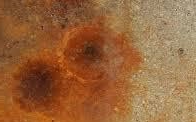Corrosion: (1, 1, 144, 122)
